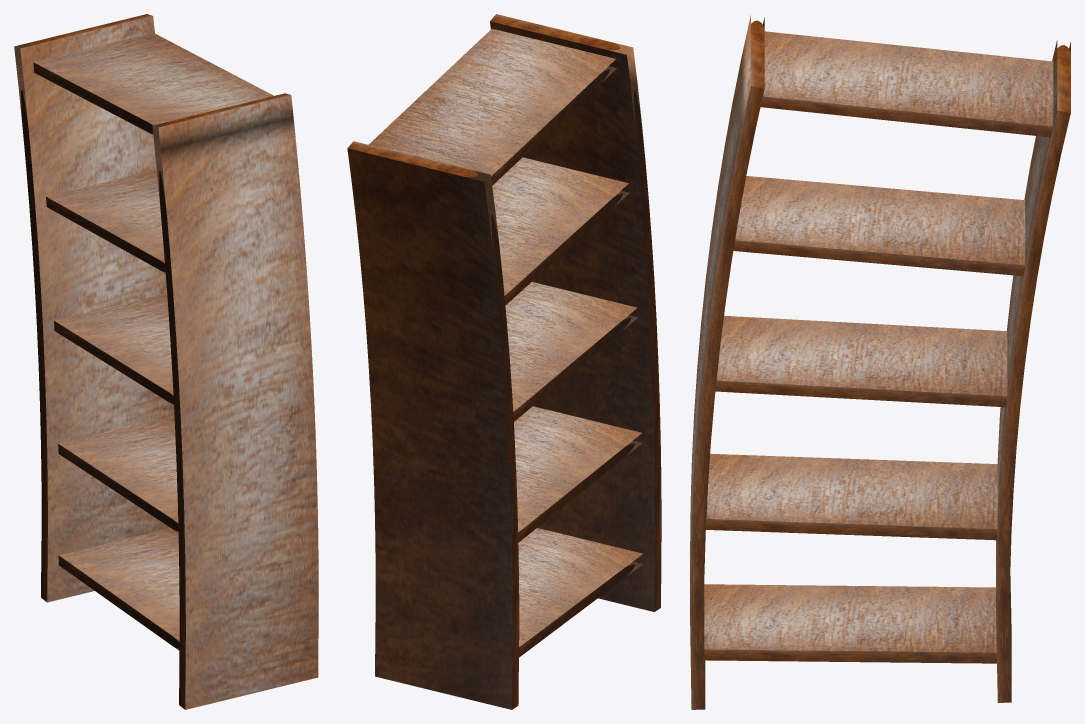
File: Bookcase.fbx
The picture shows the model from 3 angles, left to right: view 1: azimuth 30°, elevation 25°; view 2: azimuth 150°, elevation 25°; view 3: azimuth 270°, elevation 25°; orthographic projection. The views are drawn at different scales.
Visible parts, largest first — view 1: Cube.004; view 2: Cube.004; view 3: Cube.004.
Boxes of the visible parts, <box> form: Cube.004: <box>14,14,318,709</box>; Cube.004: <box>347,14,661,709</box>; Cube.004: <box>690,15,1070,709</box>.
Size of the model in its own units: 230 by 930 by 514.
